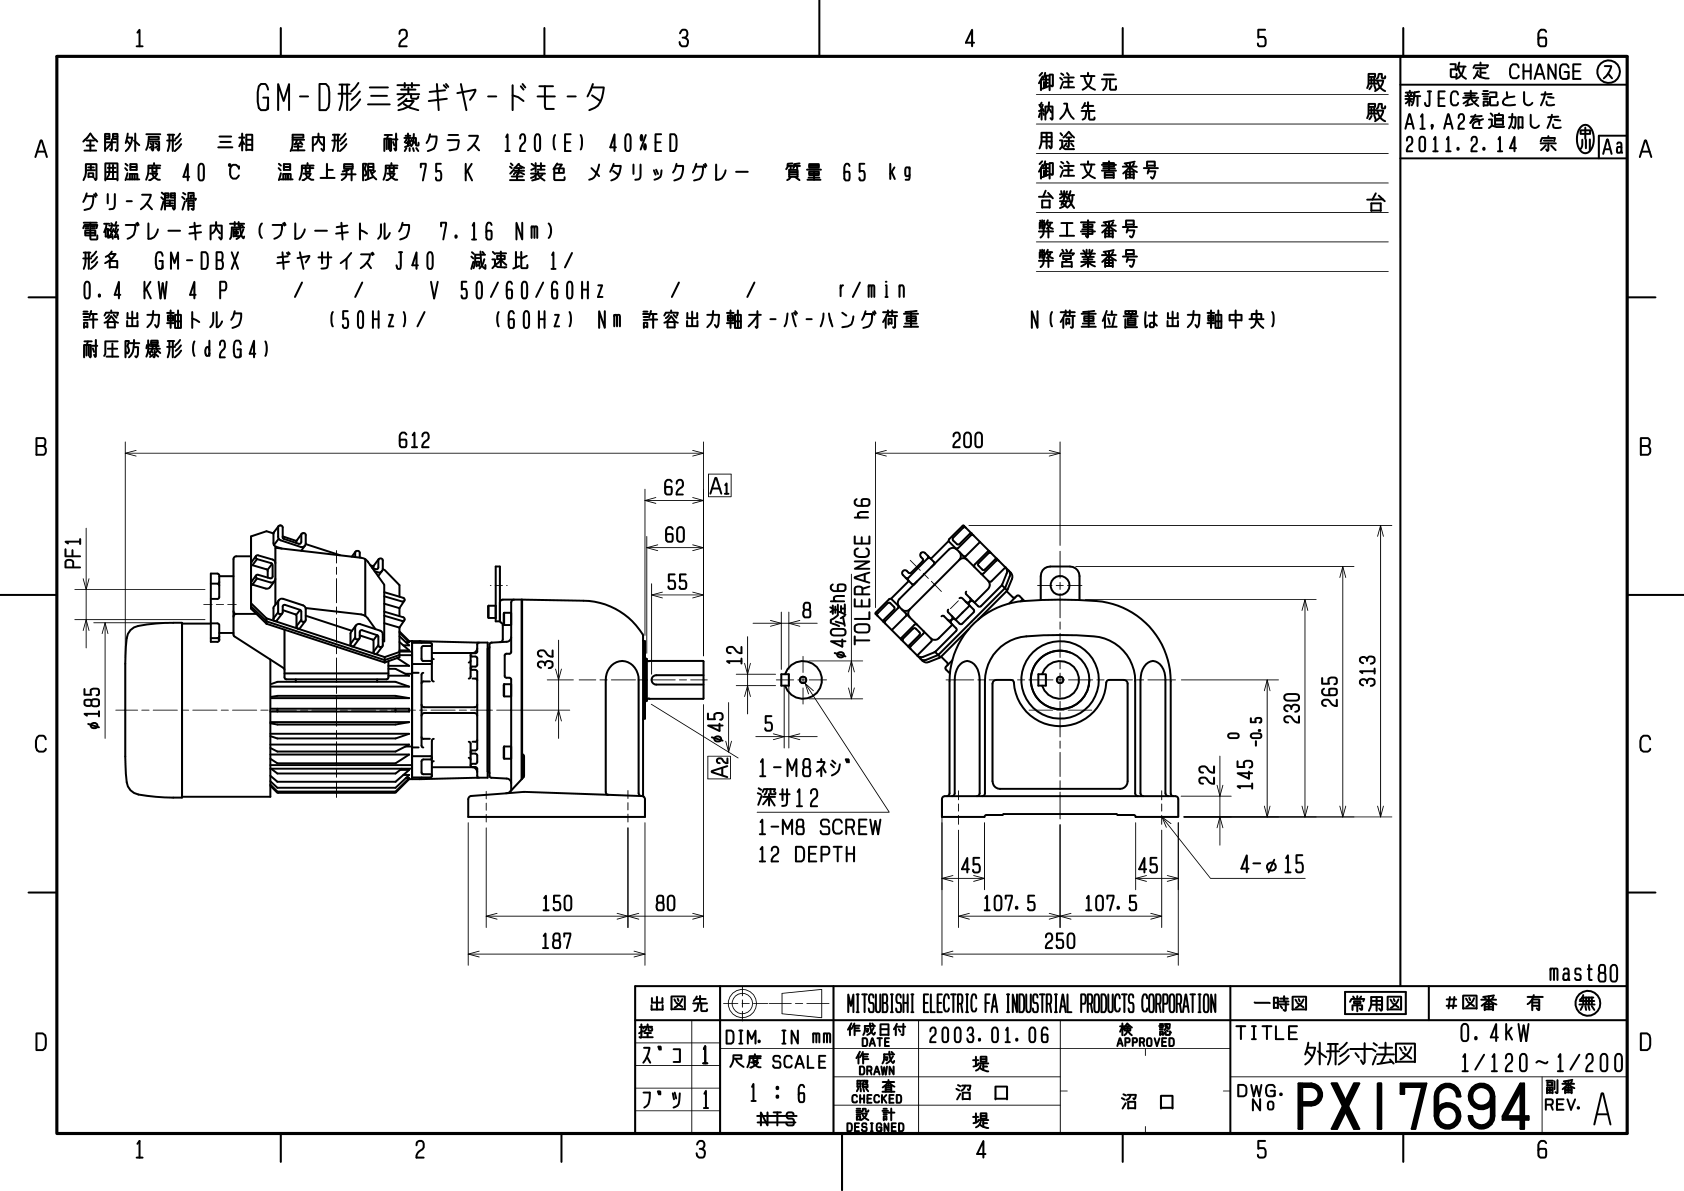GM_D_耐圧屋内_三相_脚: (58, 409, 1392, 974)
